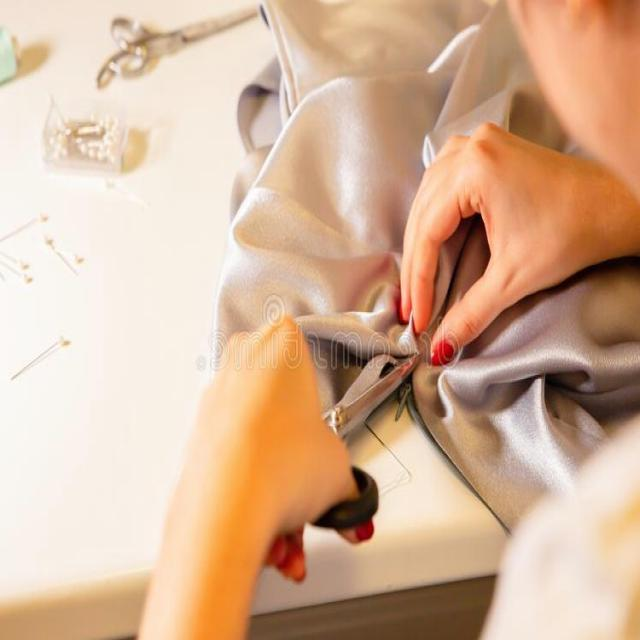clothes: (194, 0, 388, 319), (484, 337, 632, 525), (372, 0, 493, 157)
